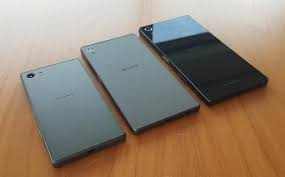sony: (14, 56, 130, 171), (77, 34, 199, 138)
